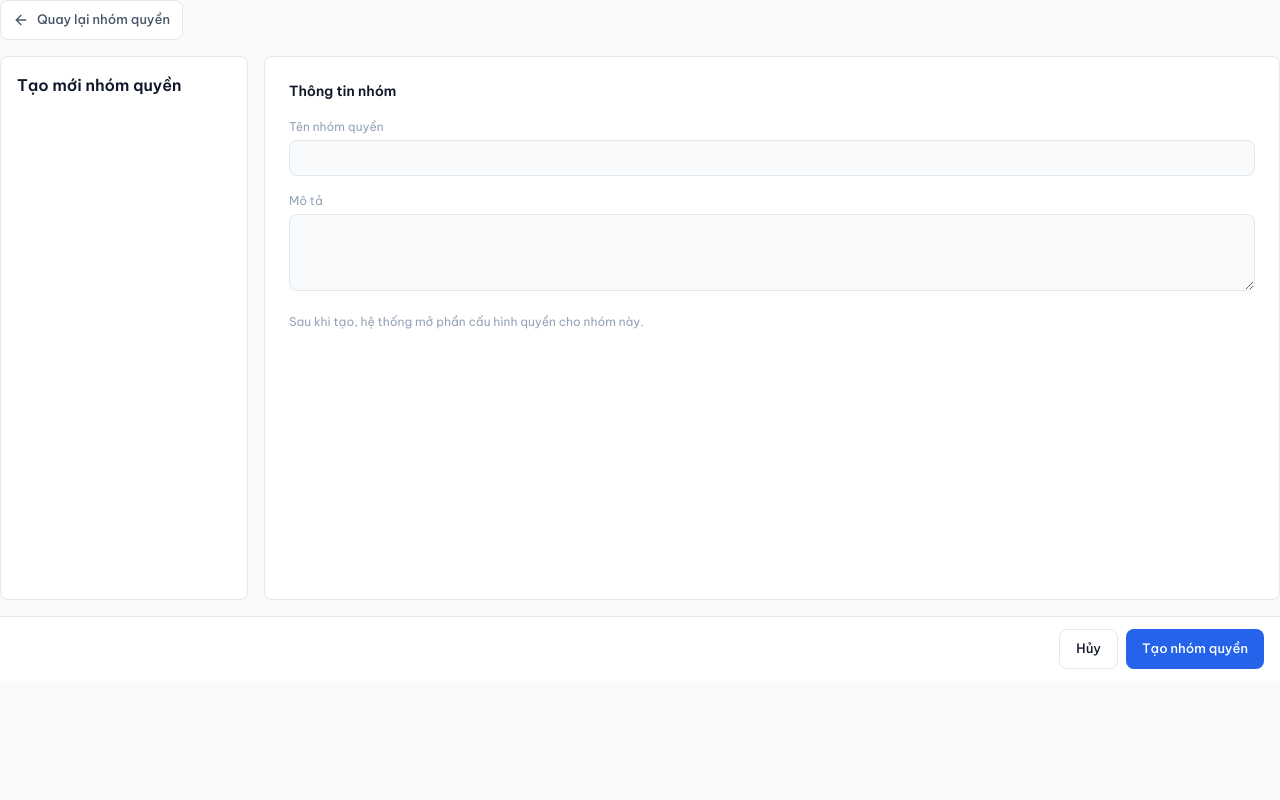
Test: NewRoleForm (/system/roles/new) › phiên hết hạn → banner, giữ dữ liệu, không chuyển trang
Type "Kho phụ" into the field labelled "Tên nhóm quyền".
click(772, 158); type("Kho phụ")  # box [289,140,1255,176]
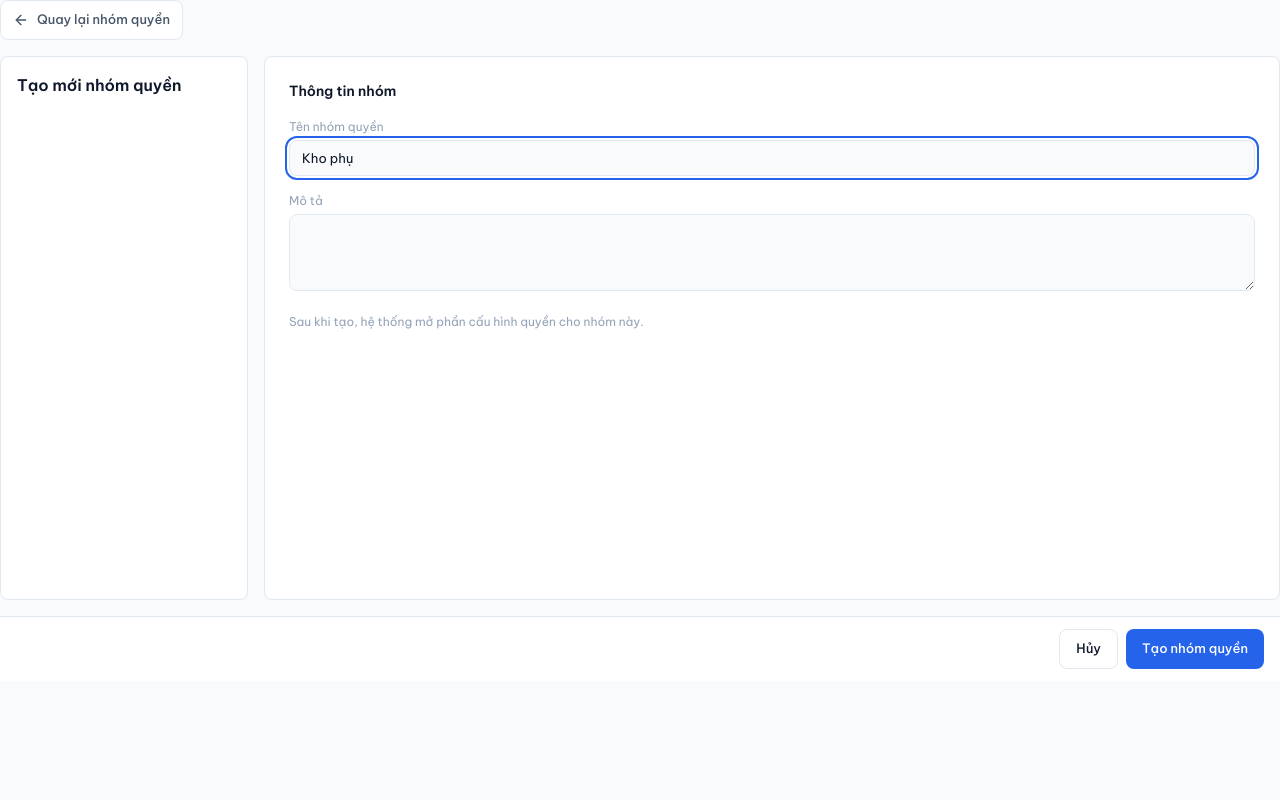
Click the button "Tạo nhóm quyền".
click(1195, 649)  # box [1126,629,1264,669]
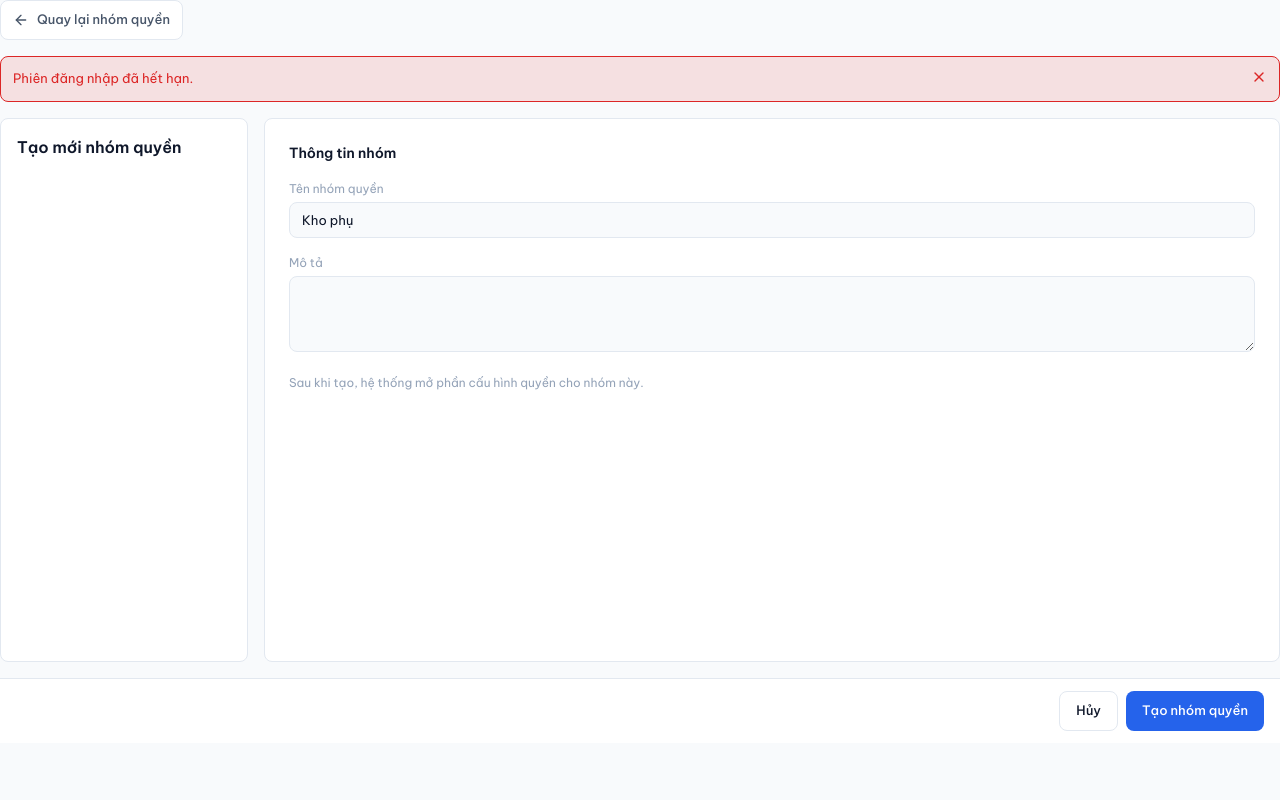
Now the message reads "Phiên đăng nhập đã hết hạn.", box [13,70,193,86]
